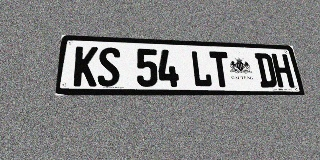4: (157, 49, 179, 87)
5: (137, 48, 158, 87)
D: (254, 53, 278, 87)
H: (271, 54, 295, 88)
K: (73, 46, 98, 86)
L: (190, 51, 213, 87)
S: (97, 47, 120, 87)
T: (209, 51, 232, 87)
